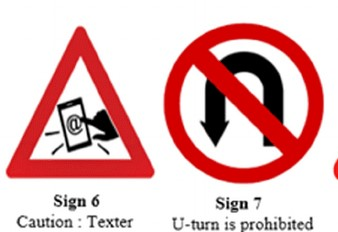Traffic signal: (164, 23, 325, 184), (4, 26, 155, 177)
